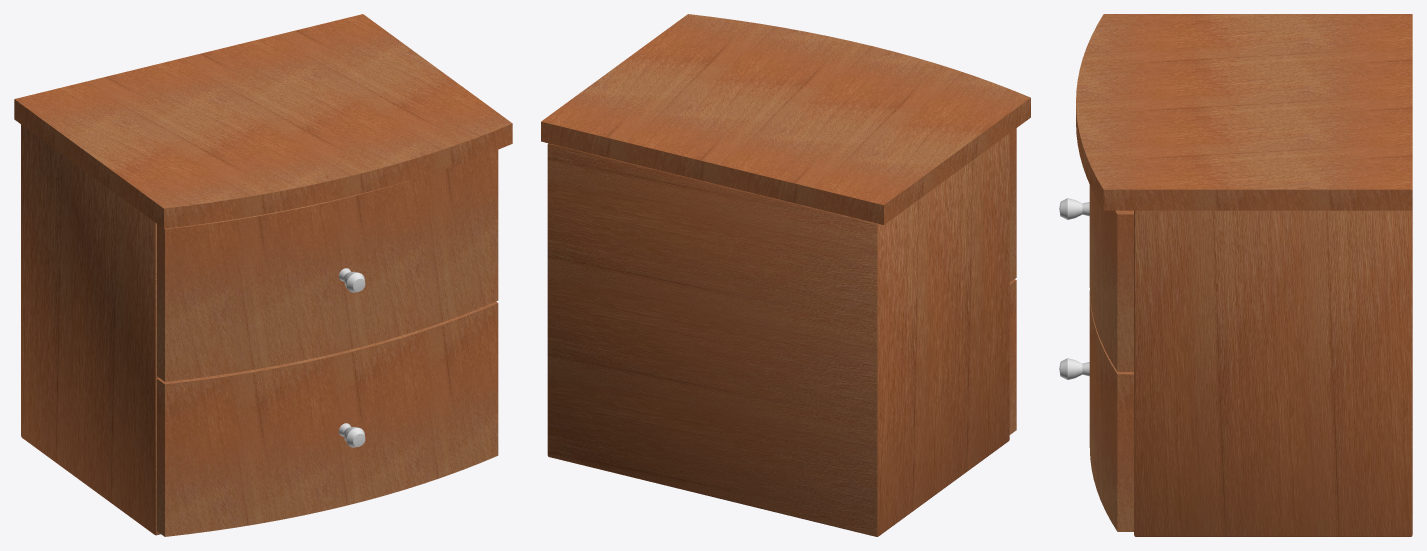
File: recAg6Kv7qLrsExCi.glb
The picture shows the model from 3 angles, left to right: view 1: azimuth 30°, elevation 25°; view 2: azimuth 150°, elevation 25°; view 3: azimuth 270°, elevation 25°; orthographic projection. The views are drawn at different scales.
Visible parts, largest first — view 1: chevet_chambre_etage_2_Corps; view 2: chevet_chambre_etage_2_Corps; view 3: chevet_chambre_etage_2_Corps.
Part boxes in pixels (left/top/right/bottom): chevet_chambre_etage_2_Corps: left=14, top=14, right=512, bottom=536; chevet_chambre_etage_2_Corps: left=541, top=14, right=1030, bottom=536; chevet_chambre_etage_2_Corps: left=1059, top=14, right=1412, bottom=536.
Bounding box in the file's own units: 0.451 × 0.42 × 0.383.
2 materials, 1 textured.
